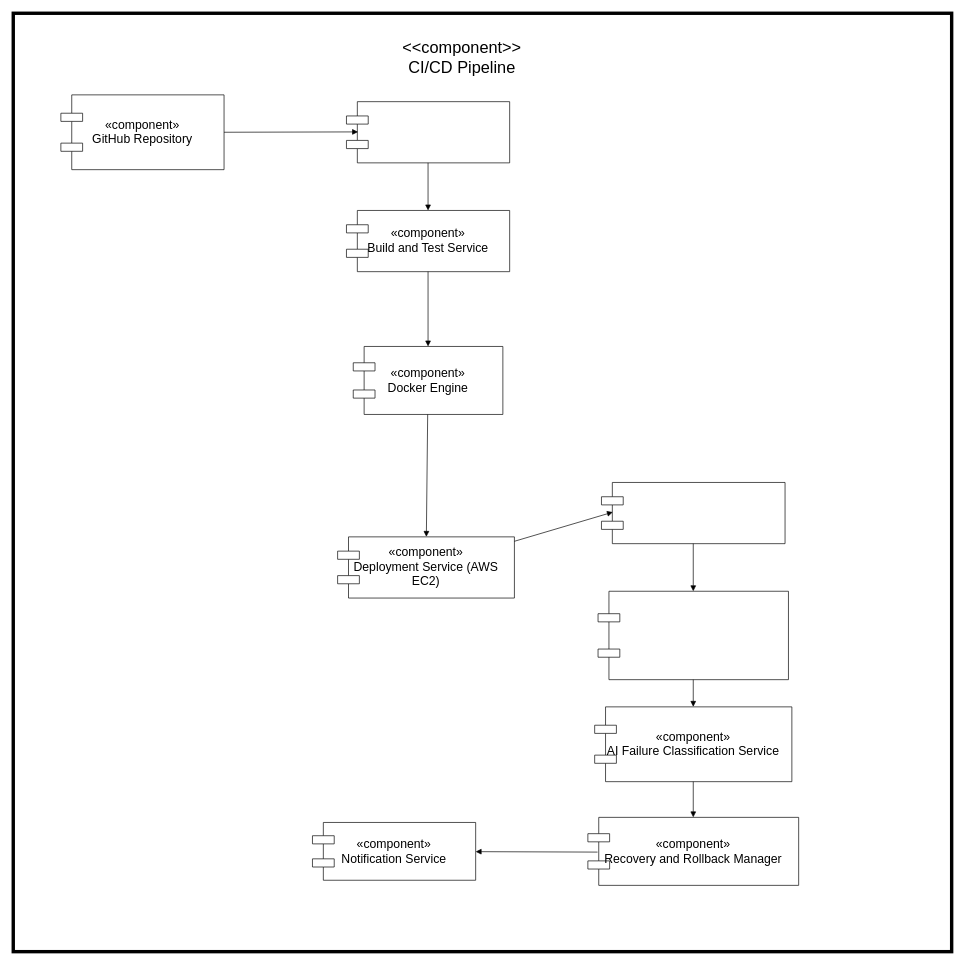
Some shapes in this 965 by 965 pixel diagram are drawn without their labels. Each missing label, with the centre of its shape:
"«component» CI/CD Orchestrator" goes at (428,132).
"«component» Failure Detection Module" goes at (692,635).
"«component» Log Monitoring Service" goes at (693,513).
